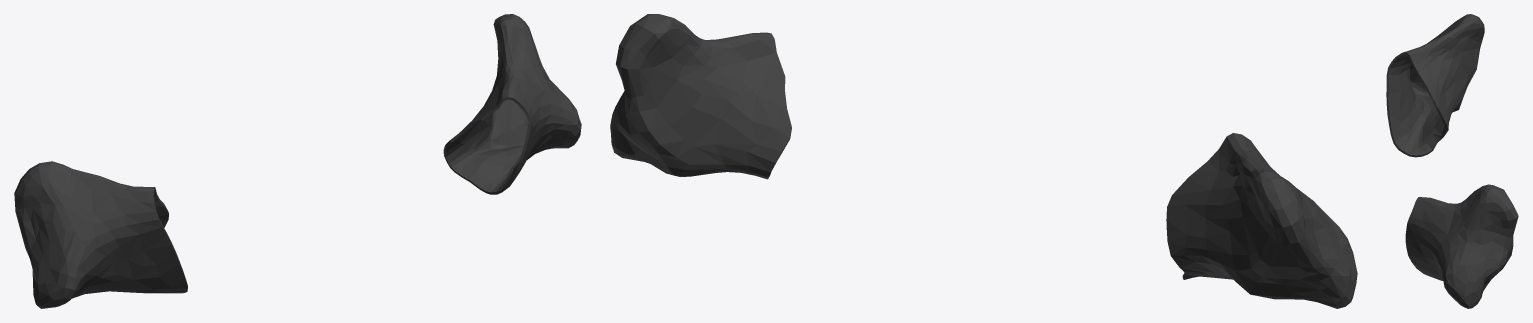
The model's file is c7_transverse_process.glb.
3 renders of one model, left to right at view 1: azimuth 30°, elevation 25°; view 2: azimuth 150°, elevation 25°; view 3: azimuth 270°, elevation 25°, orthographic. The views are drawn at different scales.
Visible parts, largest first — view 1: c7_transverse_process; view 2: c7_transverse_process; view 3: c7_transverse_process.
Boxes of the visible parts, <box> form: c7_transverse_process: <box>14,14,581,308</box>; c7_transverse_process: <box>610,14,1357,308</box>; c7_transverse_process: <box>1386,14,1518,308</box>.
Size of the model in its own units: 52.98 by 13.25 by 13.32.
1 material, 1 textured.
